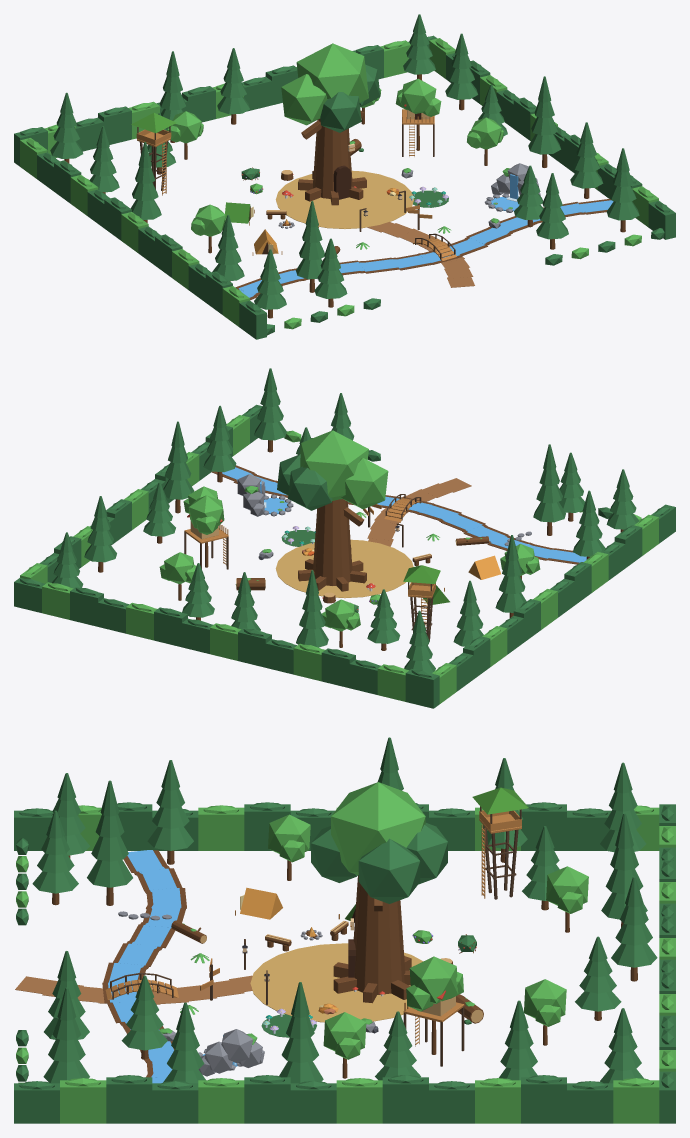
File: CatCafe_Woods_Set.glb
The picture shows the model from 3 angles, top to bottom: view 1: azimuth 30°, elevation 25°; view 2: azimuth 150°, elevation 25°; view 3: azimuth 270°, elevation 25°; orthographic projection. The views are drawn at different scales.
Visible parts, largest first — view 1: CatCafe_Woods_Set_049_Thicket, CatCafe_Woods_Set, CatCafe_Woods_Set_000_GreatOak, CatCafe_Woods_Set_009_Treehouse, CatCafe_Woods_Set_010_LookoutTower, CatCafe_Woods_Set_038_PineTall, CatCafe_Woods_Set_035_PineTall, CatCafe_Woods_Set_039_PineTall, CatCafe_Woods_Set_033_PineTall, CatCafe_Woods_Set_011_WaterfallPond, CatCafe_Woods_Set_027_PineTall, CatCafe_Woods_Set_029_PineTall (+17 smaller); view 2: CatCafe_Woods_Set_049_Thicket, CatCafe_Woods_Set_000_GreatOak, CatCafe_Woods_Set, CatCafe_Woods_Set_009_Treehouse, CatCafe_Woods_Set_035_PineTall, CatCafe_Woods_Set_038_PineTall, CatCafe_Woods_Set_010_LookoutTower, CatCafe_Woods_Set_011_WaterfallPond, CatCafe_Woods_Set_039_PineTall, CatCafe_Woods_Set_030_PineTall, CatCafe_Woods_Set_033_PineTall, CatCafe_Woods_Set_037_PineTall (+17 smaller); view 3: CatCafe_Woods_Set_049_Thicket, CatCafe_Woods_Set_000_GreatOak, CatCafe_Woods_Set, CatCafe_Woods_Set_009_Treehouse, CatCafe_Woods_Set_010_LookoutTower, CatCafe_Woods_Set_035_PineTall, CatCafe_Woods_Set_038_PineTall, CatCafe_Woods_Set_034_PineTall, CatCafe_Woods_Set_029_PineTall, CatCafe_Woods_Set_039_PineTall, CatCafe_Woods_Set_044_PineTall, CatCafe_Woods_Set_030_PineTall (+19 smaller).
Part boxes in pixels (x1,y1,x2,y2): CatCafe_Woods_Set_049_Thicket: (14, 35, 675, 339); CatCafe_Woods_Set: (235, 170, 613, 300); CatCafe_Woods_Set_000_GreatOak: (281, 43, 380, 205); CatCafe_Woods_Set_009_Treehouse: (395, 78, 441, 156); CatCafe_Woods_Set_010_LookoutTower: (131, 113, 176, 195); CatCafe_Woods_Set_038_PineTall: (528, 76, 560, 167); CatCafe_Woods_Set_035_PineTall: (296, 201, 324, 292); CatCafe_Woods_Set_039_PineTall: (606, 148, 639, 232); CatCafe_Woods_Set_033_PineTall: (130, 142, 161, 222); CatCafe_Woods_Set_011_WaterfallPond: (484, 163, 540, 212); CatCafe_Woods_Set_027_PineTall: (445, 33, 477, 110); CatCafe_Woods_Set_029_PineTall: (217, 48, 249, 124); CatCafe_Woods_Set_049_Thicket: (14, 404, 675, 708); CatCafe_Woods_Set_000_GreatOak: (277, 430, 388, 591); CatCafe_Woods_Set: (211, 465, 586, 598); CatCafe_Woods_Set_009_Treehouse: (184, 495, 228, 569); CatCafe_Woods_Set_035_PineTall: (533, 444, 565, 535); CatCafe_Woods_Set_038_PineTall: (163, 421, 194, 513); CatCafe_Woods_Set_010_LookoutTower: (403, 565, 440, 641); CatCafe_Woods_Set_011_WaterfallPond: (237, 474, 293, 516); CatCafe_Woods_Set_039_PineTall: (254, 368, 286, 452); CatCafe_Woods_Set_030_PineTall: (296, 570, 328, 647); CatCafe_Woods_Set_033_PineTall: (495, 535, 526, 617); CatCafe_Woods_Set_037_PineTall: (203, 405, 236, 482); CatCafe_Woods_Set_049_Thicket: (14, 802, 675, 1123); CatCafe_Woods_Set_000_GreatOak: (311, 782, 447, 1003); CatCafe_Woods_Set: (15, 850, 422, 1083); CatCafe_Woods_Set_009_Treehouse: (403, 956, 464, 1066); CatCafe_Woods_Set_010_LookoutTower: (472, 787, 528, 899); CatCafe_Woods_Set_035_PineTall: (87, 780, 132, 905); CatCafe_Woods_Set_038_PineTall: (279, 982, 323, 1083); CatCafe_Woods_Set_034_PineTall: (147, 760, 193, 864); CatCafe_Woods_Set_029_PineTall: (611, 876, 657, 981); CatCafe_Woods_Set_039_PineTall: (43, 987, 89, 1083); CatCafe_Woods_Set_044_PineTall: (32, 810, 78, 905); CatCafe_Woods_Set_030_PineTall: (601, 813, 647, 927).
Size of the model in its own units: 119 by 40.4 by 119.
Materials: 1 (1 with a texture image).
